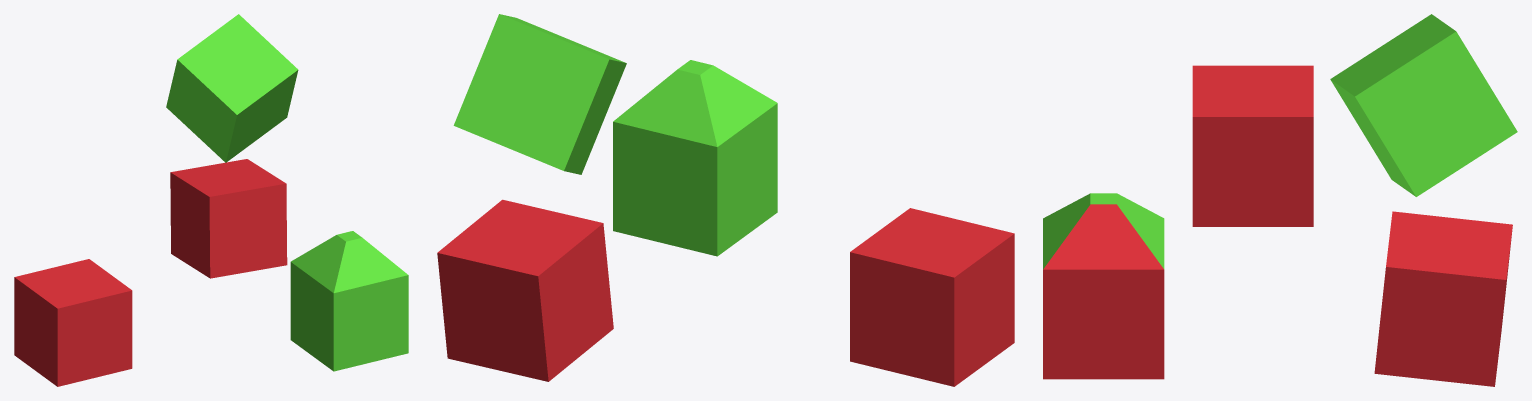
The model's file is TestScene.fbx.
3 views of the same model, side by side, from view 1: azimuth 30°, elevation 25°; view 2: azimuth 150°, elevation 25°; view 3: azimuth 270°, elevation 25° (orthographic). The views are drawn at different scales.
Parts seen in each view (by area): view 1: MultiMaterial, MovedCube, TopCube, MyCube; view 2: MultiMaterial, MyCube, MovedCube, TopCube; view 3: MultiMaterial, MyCube, MovedCube, TopCube.
Part boxes in pixels (left/top/right/bottom): MultiMaterial: left=290, top=231, right=408, bottom=371; MovedCube: left=14, top=259, right=132, bottom=386; TopCube: left=166, top=14, right=298, bottom=162; MyCube: left=170, top=159, right=287, bottom=278; MultiMaterial: left=613, top=60, right=777, bottom=256; MyCube: left=437, top=199, right=613, bottom=381; MovedCube: left=850, top=208, right=1014, bottom=386; TopCube: left=453, top=14, right=626, bottom=174; MultiMaterial: left=1043, top=193, right=1164, bottom=379; MyCube: left=1374, top=211, right=1512, bottom=386; MovedCube: left=1192, top=65, right=1313, bottom=226; TopCube: left=1330, top=14, right=1517, bottom=196.
Bounding box in the file's own units: 827 × 619 × 784.
